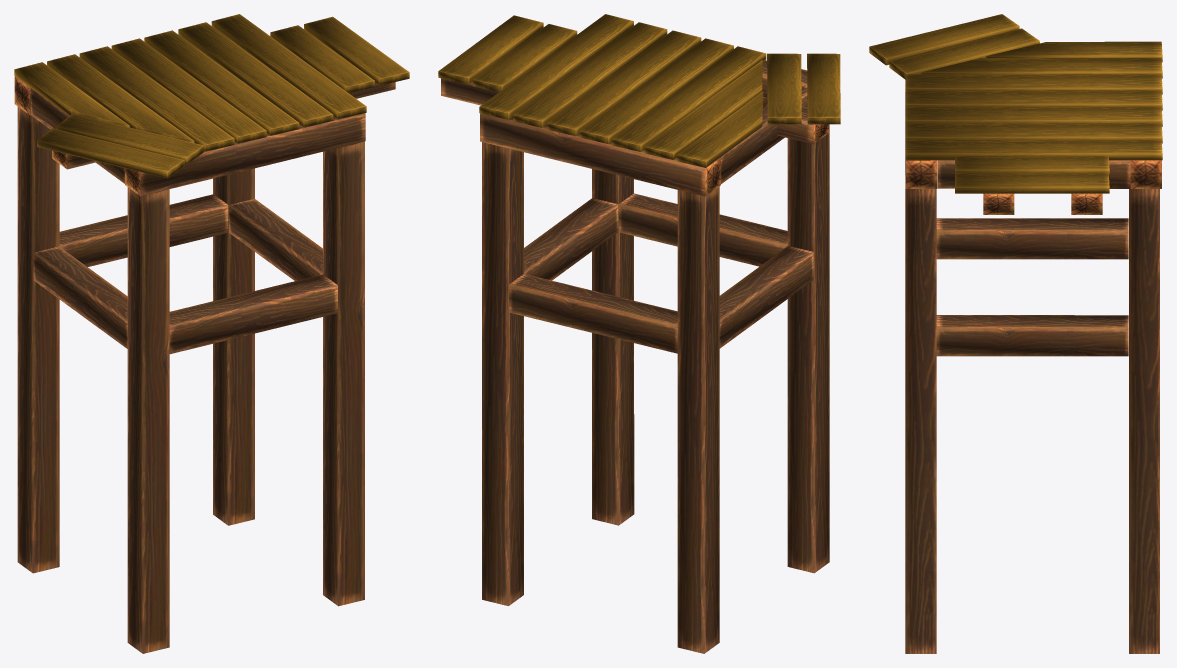
Rendered from INST_HTOWN_PLAYPLAT1.fbx.
3 renders of one model, left to right at view 1: azimuth 30°, elevation 25°; view 2: azimuth 150°, elevation 25°; view 3: azimuth 270°, elevation 25°, orthographic.
Visible parts, largest first — view 1: INST_HTOWN_PLAYPLAT1; view 2: INST_HTOWN_PLAYPLAT1; view 3: INST_HTOWN_PLAYPLAT1.
Part boxes in pixels (left/top/right/bottom): INST_HTOWN_PLAYPLAT1: left=14, top=14, right=409, bottom=653; INST_HTOWN_PLAYPLAT1: left=438, top=14, right=840, bottom=653; INST_HTOWN_PLAYPLAT1: left=869, top=14, right=1162, bottom=653.
Size of the model in its own units: 40561 by 54639 by 28975.
Materials: 2 (2 with a texture image).
